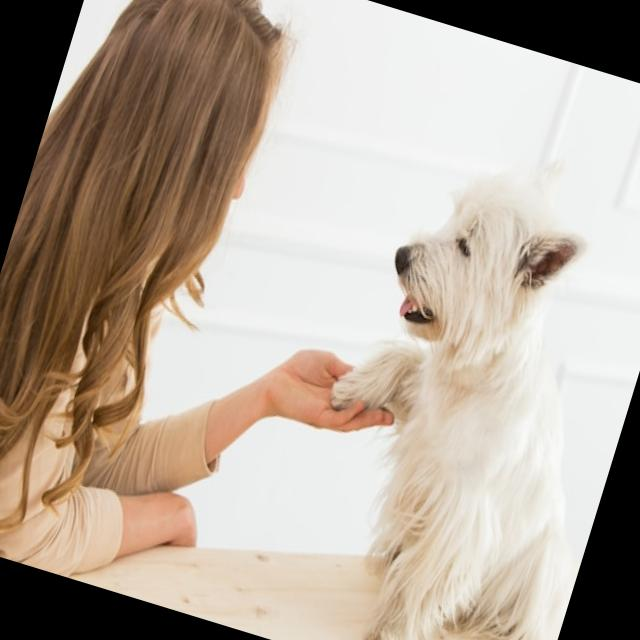Dog: (258, 136, 640, 640)
Person: (0, 0, 505, 640)
